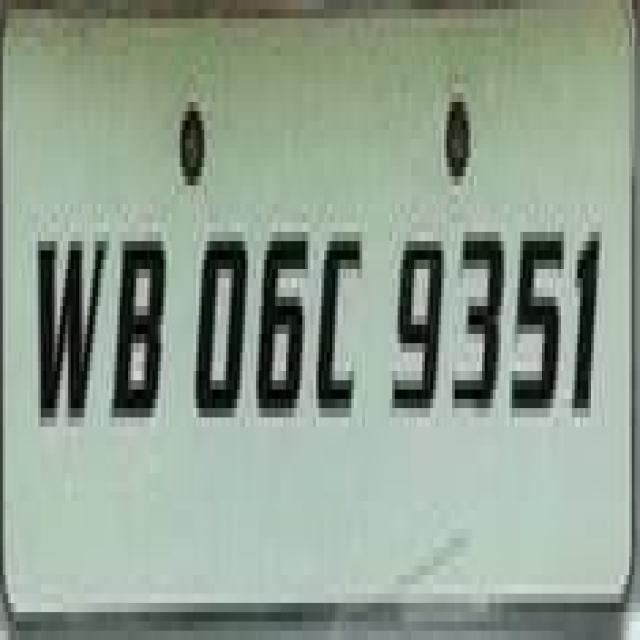license_plate: (3, 0, 607, 603)
